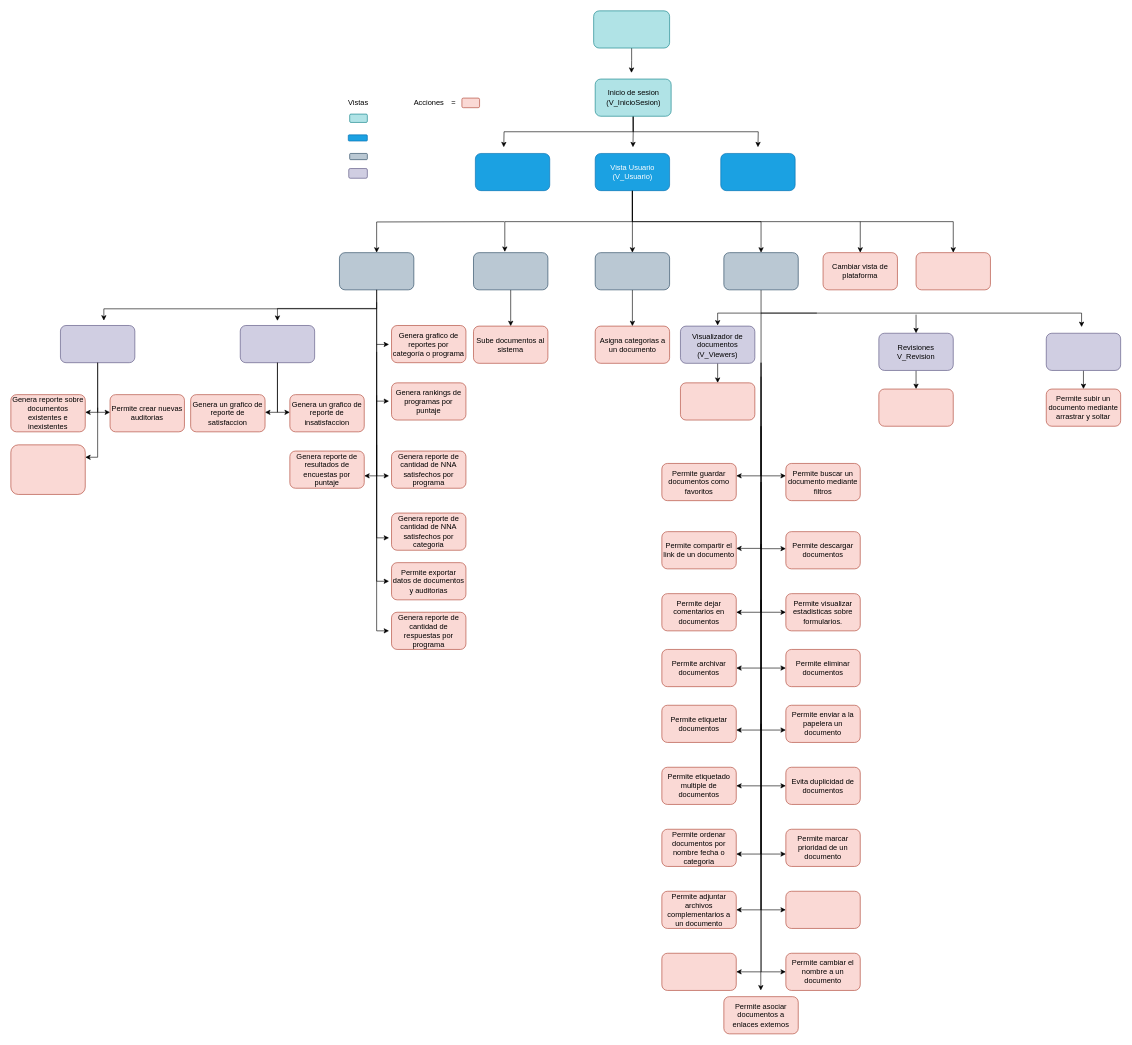
The diagram is 1132 pixels wide and 1045 high, and some of its shapes have lost their labels. Here are the shapes that lost their labels. From the top down, the centre of each, then its label:
At point 631,29: "Sistema".
At point 512,172: "Registro (V_Registro)".
At point 757,172: "Recuperar cuenta (V_RecuperarCuenta)".
At point 376,271: "Reportes V_Reportes".
At point 510,271: "Agregar documentos (V_agregadocumento)".
At point 632,271: "Categorias (V_Categorias)".
At point 760,271: "Busqueda documento (V_Documentos)".
At point 952,271: "Cerrar sesion".
At point 97,344: "Auditorias V_Auditoria".
At point 277,344: "Estadisticas V_Estadisticas".
At point 1083,351: "Seccion de carga V_DropArea".
At point 717,401: "Permite visualizar un documento para una posible descarga".
At point 915,407: "Permite dejar comentarios en documentos en estado de revision".
At point 47,469: "Genera un reporte de cantidad de respuestas por programa en auditorias".
